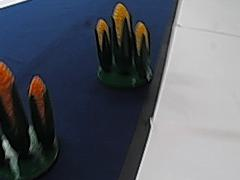corn: (0, 62, 62, 171), (89, 0, 157, 87)
